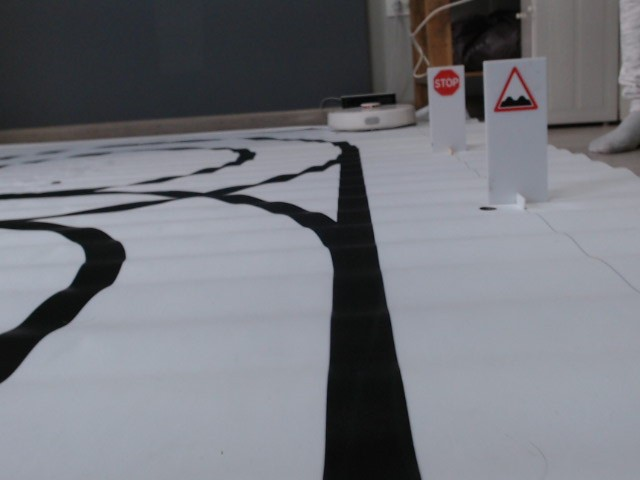Nerov: (492, 66, 542, 112)
